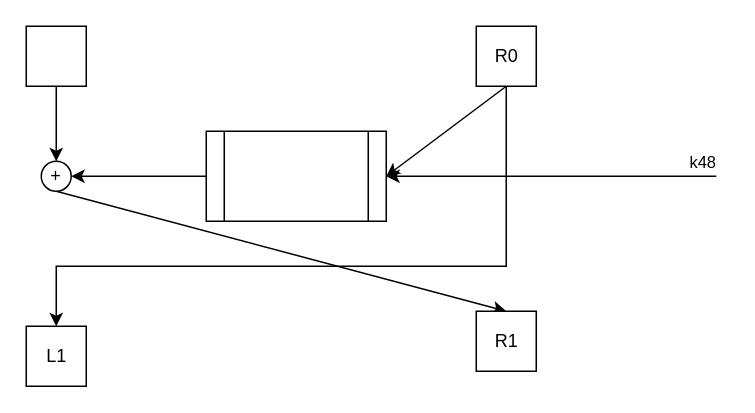
Some shapes in this 755 by 413 pixel diagram are drawn without their labels. Each missing label, with the centre of its shape:
"f Функция Фейстеля" goes at point (295, 175).
"L0" goes at point (55, 55).
